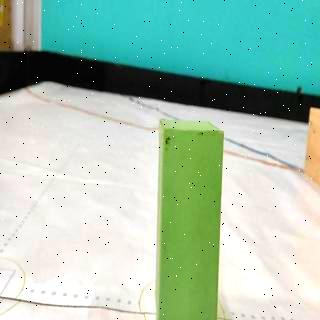greenbox: (156, 116, 225, 320)
